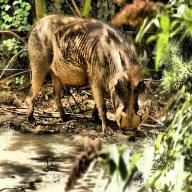boar: (17, 22, 162, 150)
